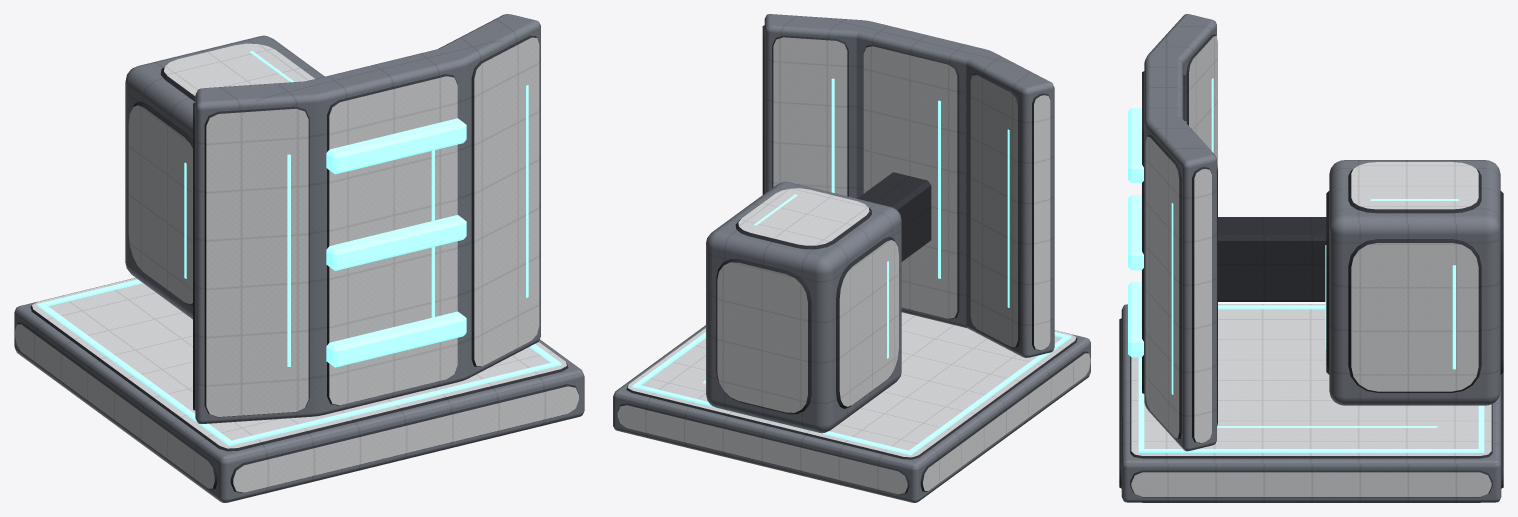
The model's file is R4X_DirectionalShield.glb.
3 renders of one model, left to right at view 1: azimuth 30°, elevation 25°; view 2: azimuth 150°, elevation 25°; view 3: azimuth 270°, elevation 25°, orthographic. The views are drawn at different scales.
Parts seen in each view (by area): view 1: R4X_DirectionalShield_Body; view 2: R4X_DirectionalShield_Body; view 3: R4X_DirectionalShield_Body.
Boxes of the visible parts, bbox=[...] form: R4X_DirectionalShield_Body: bbox=[14, 14, 584, 502]; R4X_DirectionalShield_Body: bbox=[613, 14, 1090, 502]; R4X_DirectionalShield_Body: bbox=[1119, 14, 1503, 502].
Size of the model in its own units: 0.52 by 0.507 by 0.52.
Materials: 4 (3 with a texture image).
